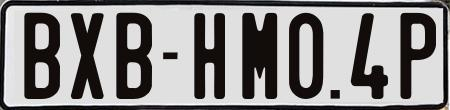0: (286, 13, 322, 102)
4: (350, 11, 393, 103)
B: (21, 11, 57, 103), (116, 11, 154, 97)
H: (193, 11, 230, 101)
M: (239, 10, 276, 98)
P: (397, 13, 432, 103)
X: (70, 10, 108, 99)
